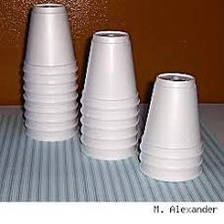paper_cup: (74, 25, 144, 165), (17, 0, 81, 147), (134, 67, 208, 184)
